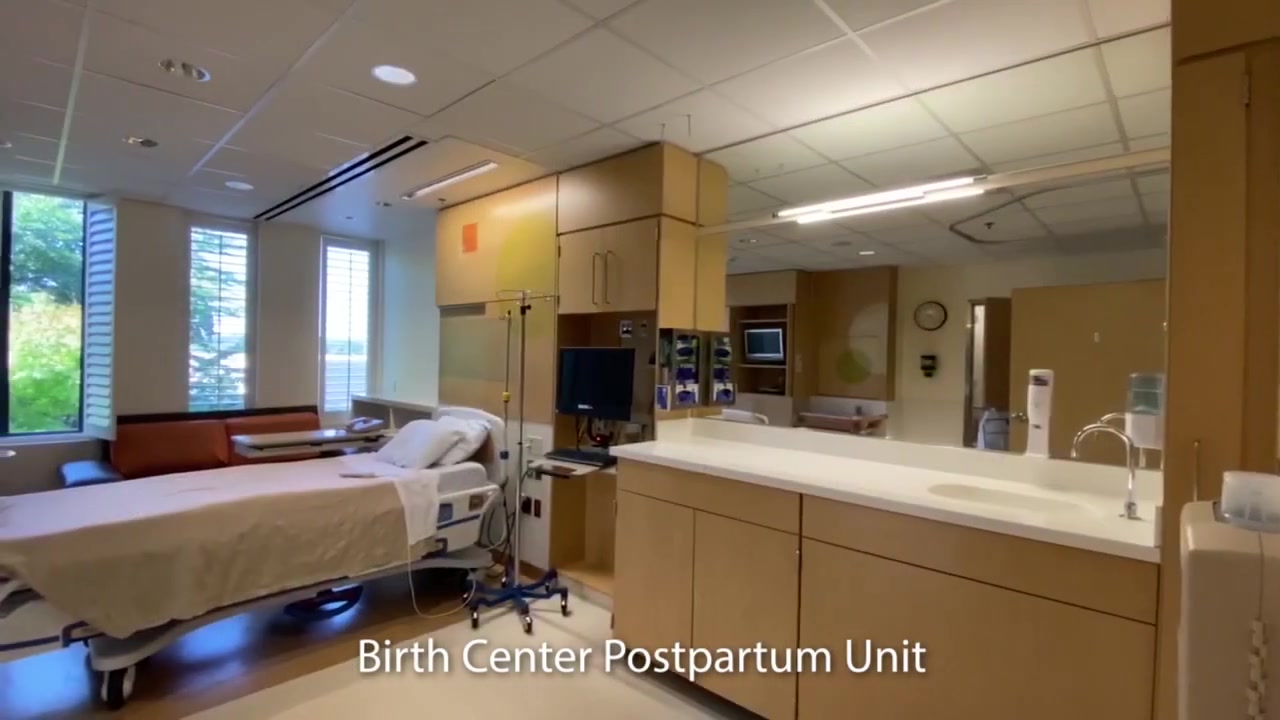TV: (743, 329, 785, 359)
cabinet: (554, 149, 700, 338)
computer: (557, 346, 635, 424)
counter: (613, 435, 1160, 719)
countertop: (611, 436, 1160, 564)
dispenser: (1126, 370, 1165, 468), (1023, 369, 1054, 458)
faucet: (1071, 413, 1139, 521)
handle: (1187, 438, 1204, 502), (589, 250, 601, 307), (602, 250, 614, 306)
hospital_bed: (1, 406, 506, 719)
iv_pole: (496, 287, 550, 586), (497, 312, 514, 566)
keyboard: (545, 446, 618, 468)
medical_waste_container: (1179, 468, 1278, 720)
overbed_table: (231, 427, 397, 458)
sink: (928, 481, 1092, 523)
sofa: (61, 405, 339, 488)
telephone: (344, 416, 384, 433)
